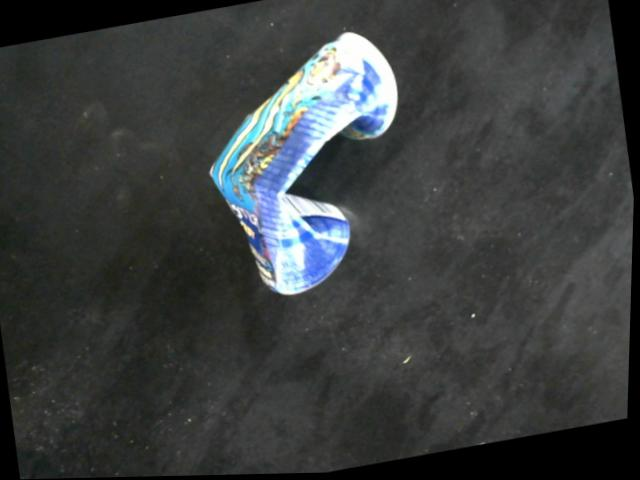can: (204, 31, 411, 302)
